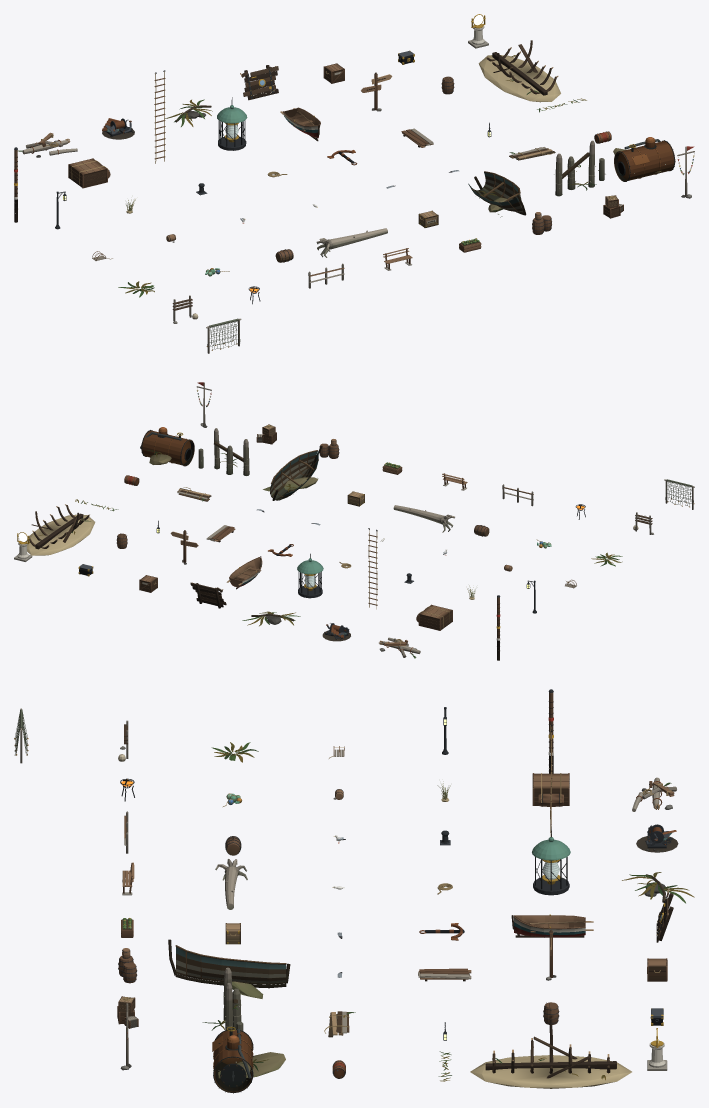
Rendered from props.glb.
The picture shows the model from 3 angles, top to bottom: view 1: azimuth 30°, elevation 25°; view 2: azimuth 150°, elevation 25°; view 3: azimuth 270°, elevation 25°; orthographic projection. The views are drawn at different scales.
Parts seen in each view (by area): view 1: PROP_hull_ribs, PROP_wreck_boiler, PROP_beacon_lamp, PROP_buoy_crate, PROP_wreck_boat, PROP_rowboat, PROP_decor_net_rack, PROP_flot_log; view 2: PROP_hull_ribs, PROP_wreck_boiler, PROP_wreck_boat, PROP_beacon_lamp, PROP_buoy_crate, PROP_rowboat, PROP_decor_net_rack, PROP_flot_log; view 3: PROP_hull_ribs, PROP_wreck_boiler, PROP_beacon_lamp, PROP_rowboat, PROP_buoy_crate, PROP_wreck_boat, boat_piece_0, PROP_flot_log, boat_piece_1.
Part boxes in pixels (bbox=[...]): PROP_hull_ribs: bbox=[478, 40, 560, 102]; PROP_wreck_boiler: bbox=[613, 140, 675, 181]; PROP_beacon_lamp: bbox=[217, 97, 247, 150]; PROP_buoy_crate: bbox=[68, 158, 110, 188]; PROP_wreck_boat: bbox=[468, 174, 526, 217]; PROP_rowboat: bbox=[280, 107, 320, 141]; PROP_decor_net_rack: bbox=[206, 318, 241, 353]; PROP_flot_log: bbox=[316, 228, 387, 257]; PROP_hull_ribs: bbox=[27, 504, 95, 555]; PROP_wreck_boiler: bbox=[141, 430, 194, 466]; PROP_wreck_boat: bbox=[263, 445, 322, 500]; PROP_beacon_lamp: bbox=[297, 553, 323, 598]; PROP_buoy_crate: bbox=[416, 604, 452, 630]; PROP_rowboat: bbox=[226, 556, 262, 589]; PROP_decor_net_rack: bbox=[664, 479, 694, 509]; PROP_flot_log: bbox=[393, 505, 454, 532]; PROP_hull_ribs: bbox=[470, 1019, 631, 1088]; PROP_wreck_boiler: bbox=[213, 1028, 285, 1093]; PROP_beacon_lamp: bbox=[532, 826, 570, 895]; PROP_rowboat: bbox=[511, 914, 593, 937]; PROP_buoy_crate: bbox=[532, 773, 569, 806]; PROP_wreck_boat: bbox=[168, 939, 290, 998]; boat_piece_0: bbox=[175, 945, 286, 969]; PROP_flot_log: bbox=[215, 859, 247, 909]; boat_piece_1: bbox=[176, 953, 286, 974].
Bounding box in the file's own units: 37.97 × 7.66 × 32.12.
